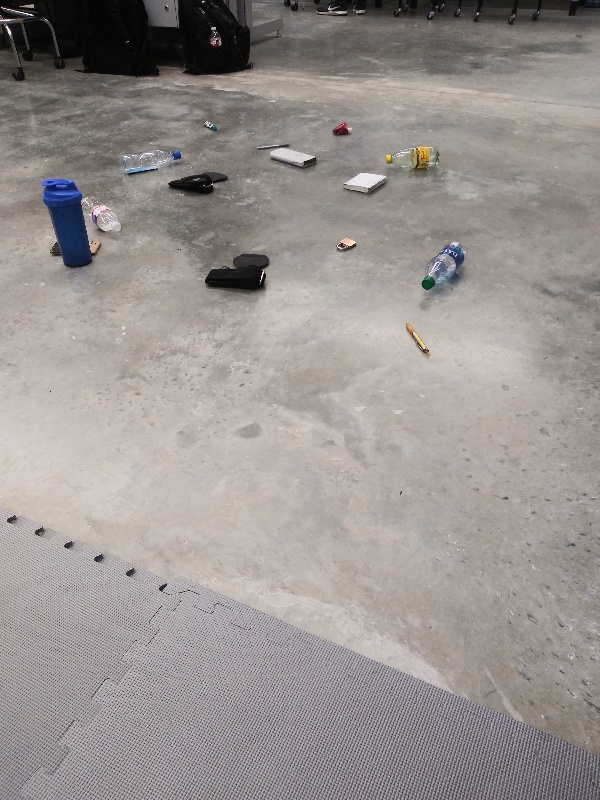bottle: (416, 238, 471, 294), (79, 193, 126, 237), (116, 144, 184, 174), (381, 144, 447, 170)
